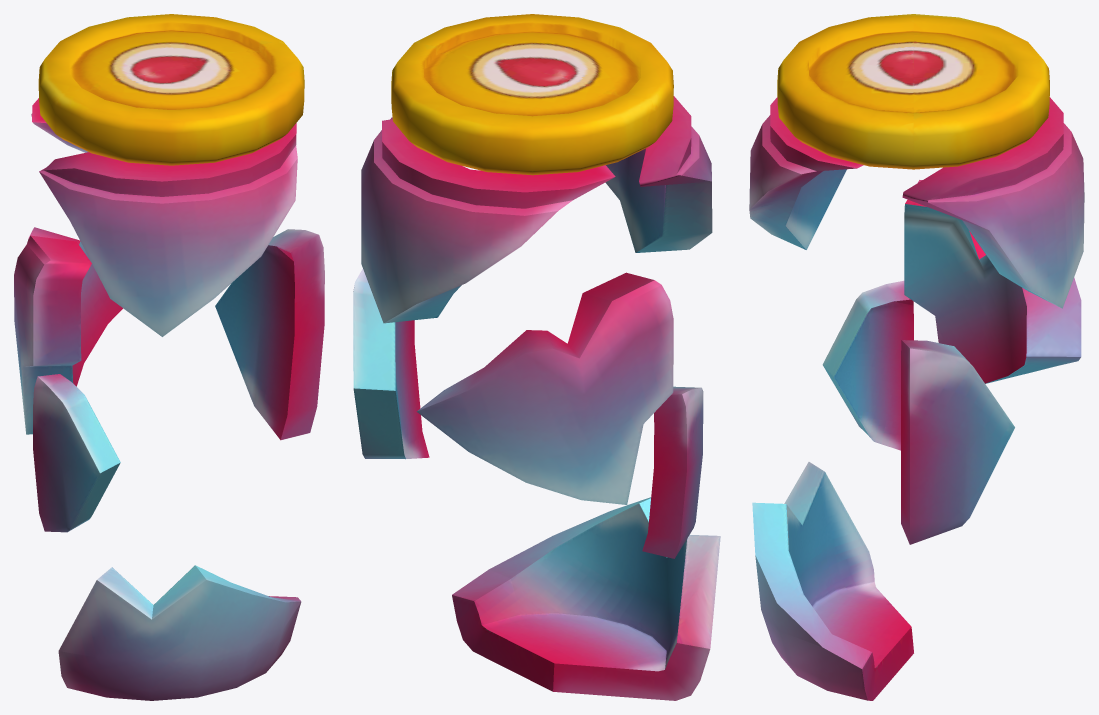
File: JamJar_Strawberry_3DParticle_1x2-2nqSoOmw.glb
The picture shows the model from 3 angles, left to right: view 1: azimuth 30°, elevation 25°; view 2: azimuth 150°, elevation 25°; view 3: azimuth 270°, elevation 25°; orthographic projection. The views are drawn at different scales.
Size of the model in its own units: 1.04 by 1.97 by 1.
1 material, 1 textured.
